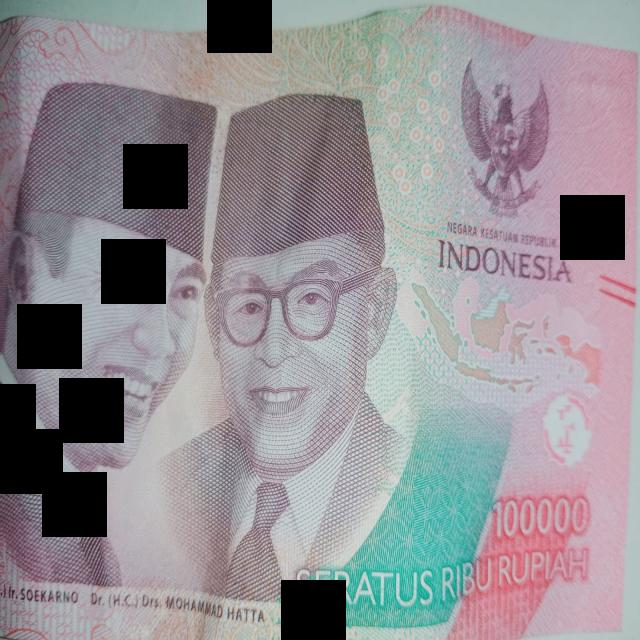seratusribu rupiah: (0, 8, 636, 638)
